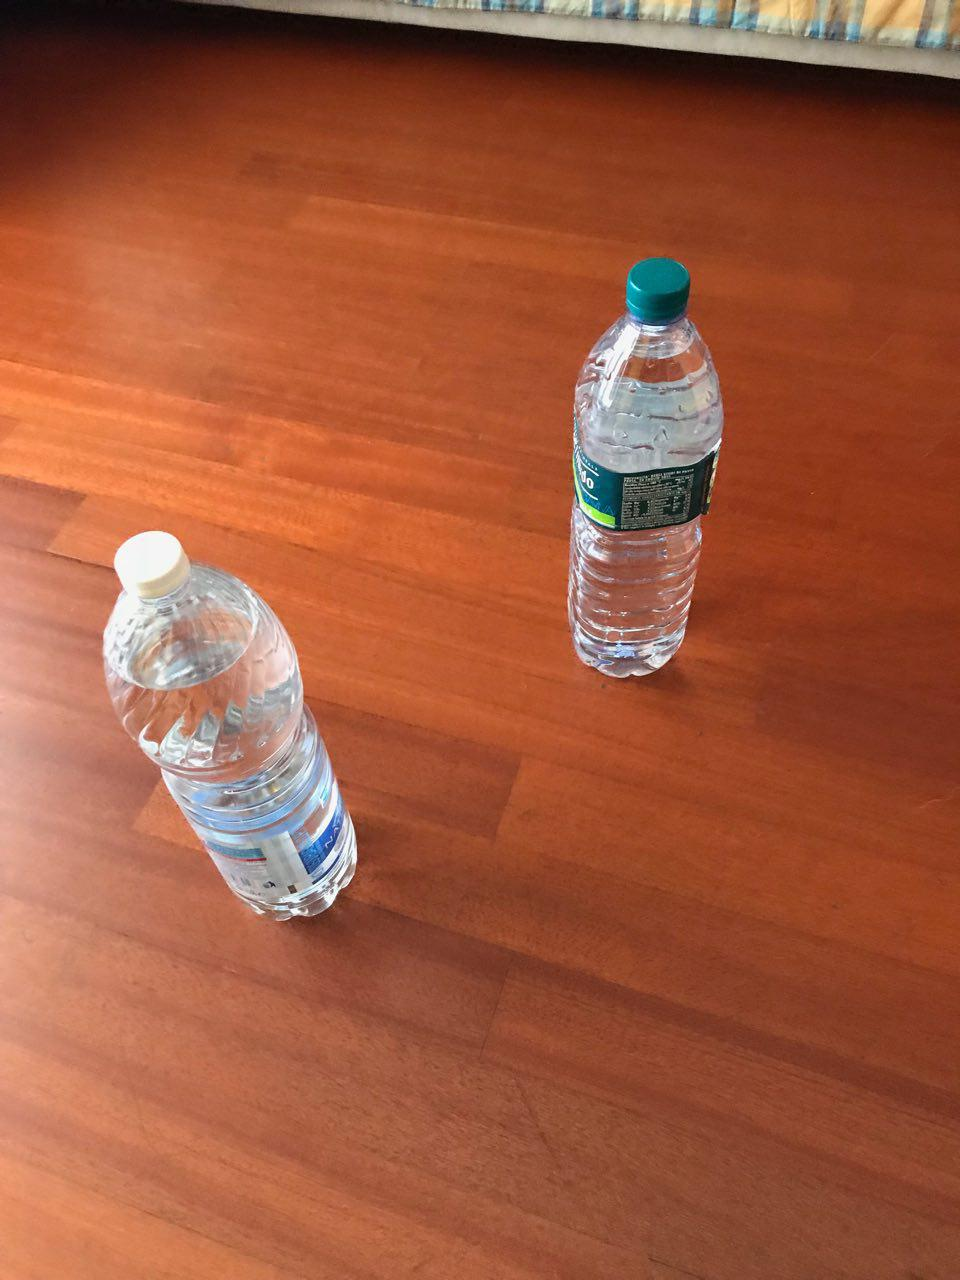san_bernardo: (566, 254, 725, 682)
